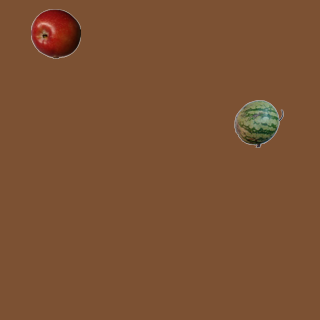Apple Braeburn: (30, 8, 80, 58)
Watermelon: (233, 98, 283, 148)
